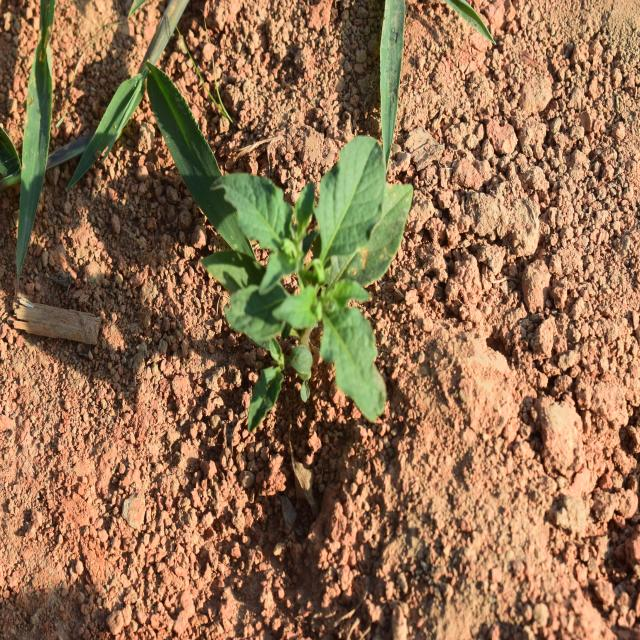Black_nightshade: (212, 116, 410, 426)
